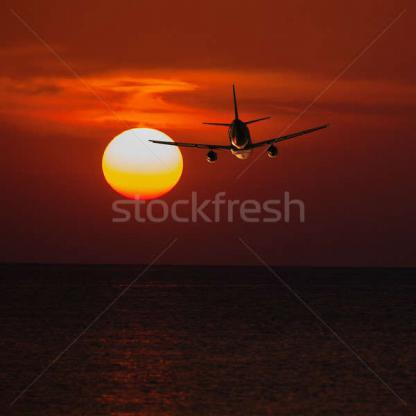CIV_Plane: (146, 80, 334, 172)
